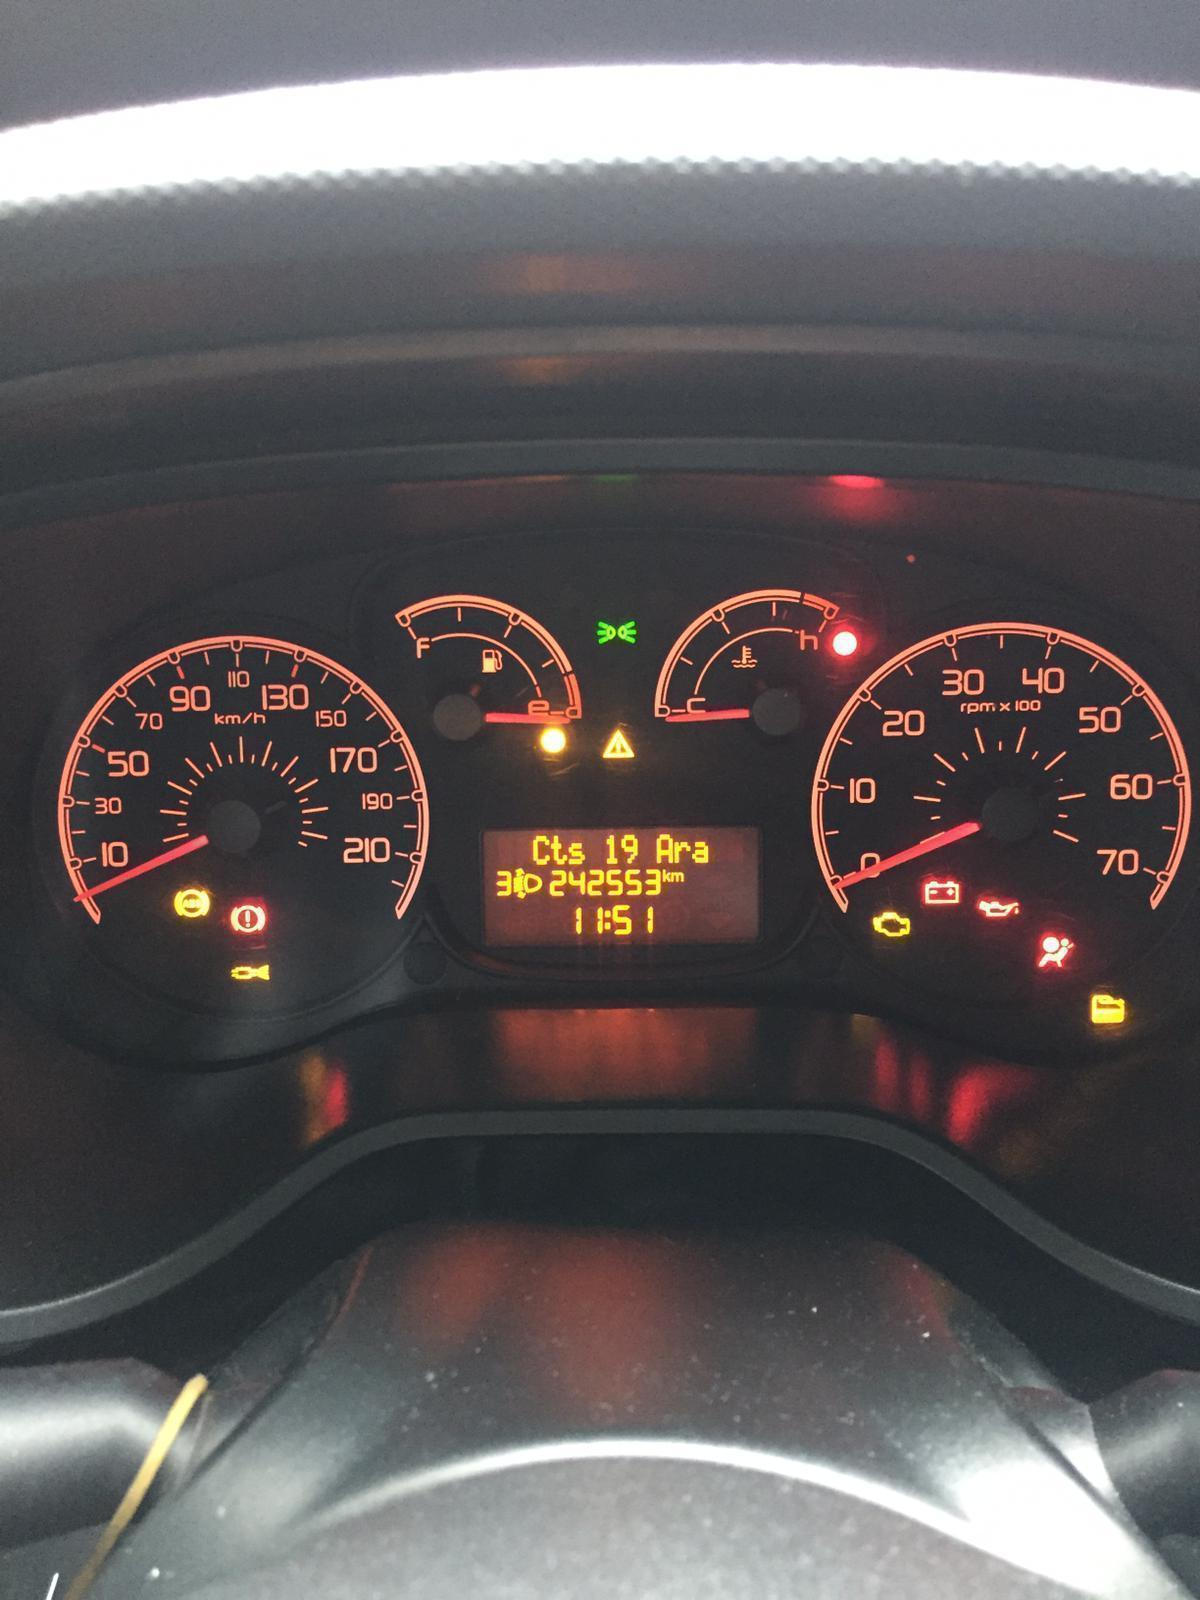1: (601, 831, 619, 866), (571, 905, 585, 935), (643, 903, 655, 936), (592, 905, 603, 936)
2: (547, 868, 566, 898), (586, 867, 604, 897)
3: (643, 867, 662, 896), (494, 868, 512, 897)
4: (567, 869, 585, 897)
5: (613, 903, 633, 936), (624, 867, 642, 896), (606, 867, 623, 896)
9: (620, 831, 639, 866)
X: (653, 831, 673, 866), (529, 833, 550, 866), (550, 833, 567, 866), (568, 842, 586, 866), (674, 838, 689, 866), (692, 840, 708, 866), (671, 871, 684, 883), (604, 908, 611, 931), (662, 866, 671, 883)
odometer: (476, 819, 766, 952)
